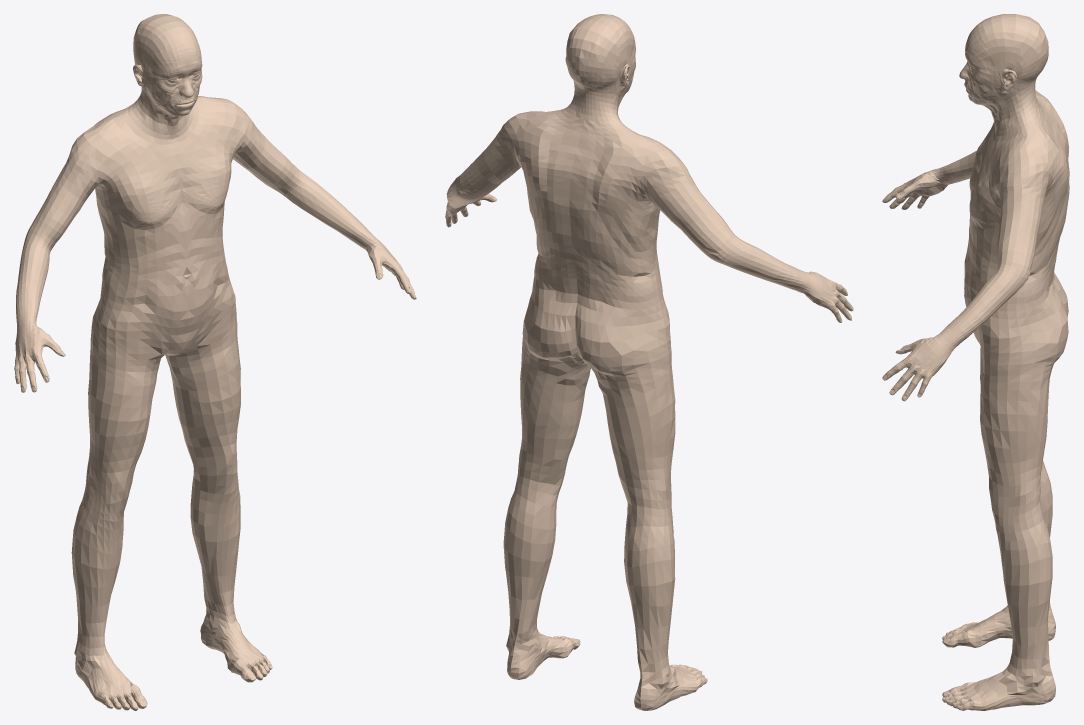
Rendered from male-older-heavy-medium.glb.
3 renders of one model, left to right at view 1: azimuth 30°, elevation 25°; view 2: azimuth 150°, elevation 25°; view 3: azimuth 270°, elevation 25°, orthographic.
Visible parts, largest first — view 1: world; view 2: world; view 3: world.
Boxes of the visible parts, <box> form: world: <box>14,14,416,710</box>; world: <box>445,14,853,710</box>; world: <box>882,14,1069,710</box>.
Size of the model in its own units: 1.21 by 1.93 by 0.4995.
